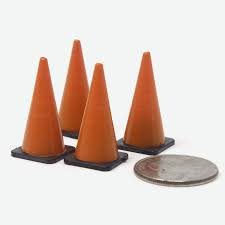cones: (11, 58, 76, 163), (116, 52, 176, 153), (69, 66, 126, 168), (59, 41, 90, 141)
